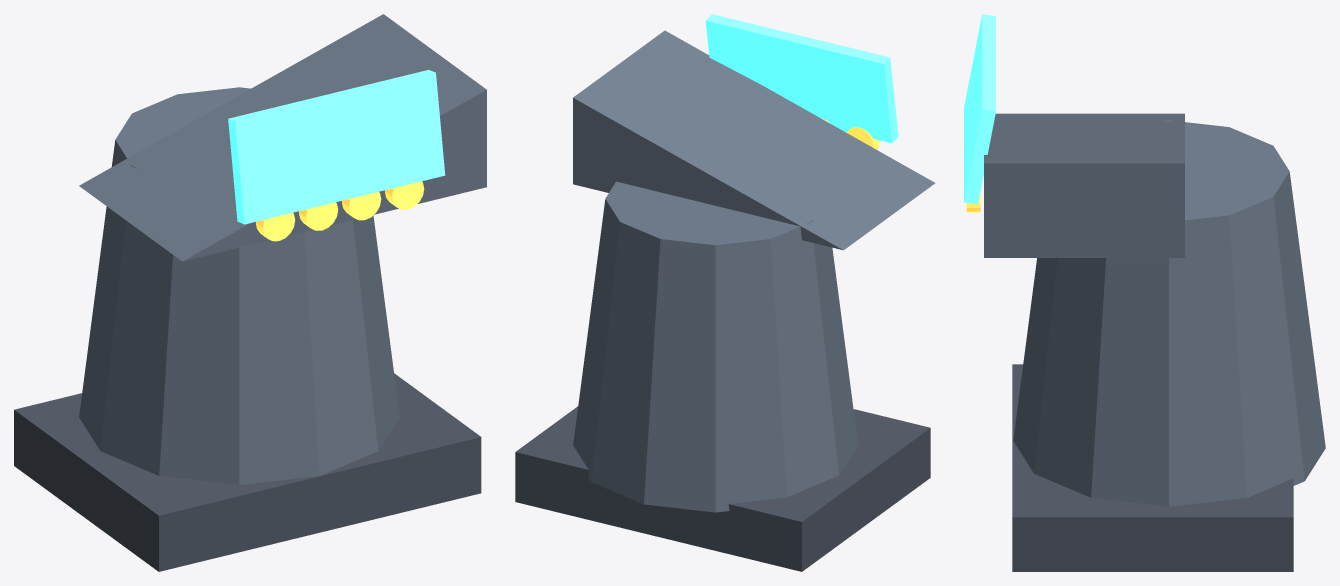
The model's file is AXM-CONSOLE-001.glb.
3 renders of one model, left to right at view 1: azimuth 30°, elevation 25°; view 2: azimuth 150°, elevation 25°; view 3: azimuth 270°, elevation 25°, orthographic. The views are drawn at different scales.
Visible parts, largest first — view 1: pedestal, base, panel, screen, button__l01, button__l02, button__l03, button__l00; view 2: pedestal, panel, base, screen; view 3: pedestal, panel, base, screen.
Boxes of the visible parts, x1=… form: pedestal: x1=79, y1=87, x2=399, y2=484; base: x1=14, y1=373, x2=481, y2=571; panel: x1=79, y1=14, x2=486, y2=261; screen: x1=228, y1=70, x2=445, y2=224; button__l01: x1=298, y1=202, x2=338, y2=230; button__l02: x1=342, y1=192, x2=381, y2=220; button__l03: x1=385, y1=181, x2=424, y2=209; button__l00: x1=256, y1=213, x2=295, y2=241; pedestal: x1=573, y1=181, x2=857, y2=512; panel: x1=573, y1=30, x2=935, y2=250; base: x1=515, y1=406, x2=930, y2=571; screen: x1=705, y1=14, x2=898, y2=143; pedestal: x1=1013, y1=120, x2=1325, y2=506; panel: x1=984, y1=113, x2=1184, y2=257; base: x1=1012, y1=364, x2=1293, y2=571; screen: x1=964, y1=14, x2=995, y2=204.
Bounding box in the file's own units: 0.9 × 1.19 × 0.8998.
